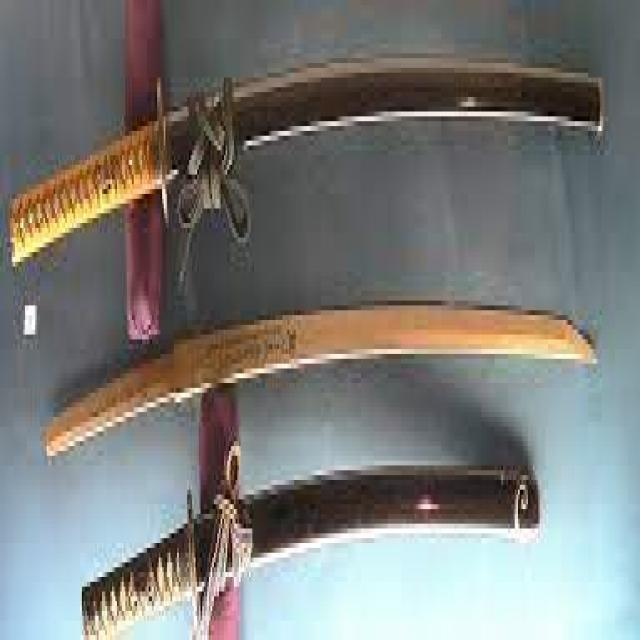long sword: (7, 54, 619, 264), (42, 296, 602, 478), (66, 456, 546, 636)
